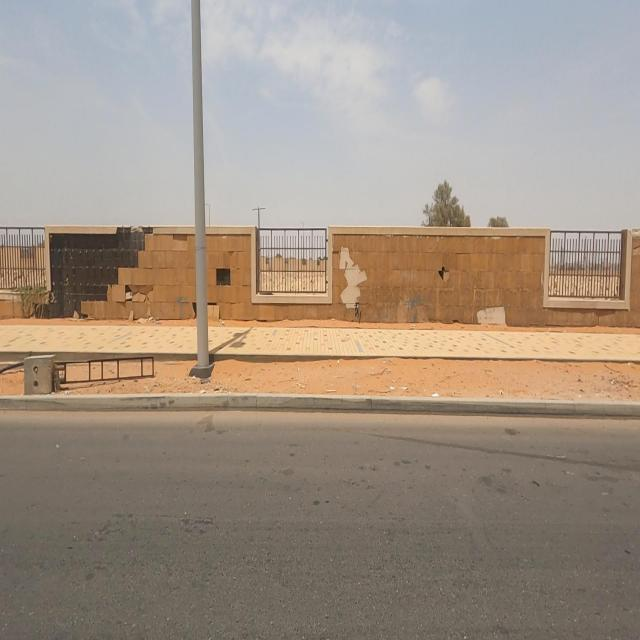debris: (0, 174, 228, 388), (404, 235, 496, 342)
